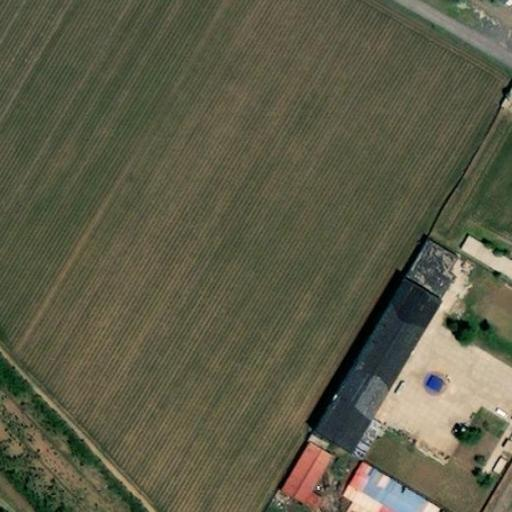building: (316, 289, 441, 460), (405, 250, 457, 309), (345, 476, 424, 512), (285, 460, 336, 512), (461, 252, 512, 296), (420, 369, 447, 395), (486, 449, 509, 475)
